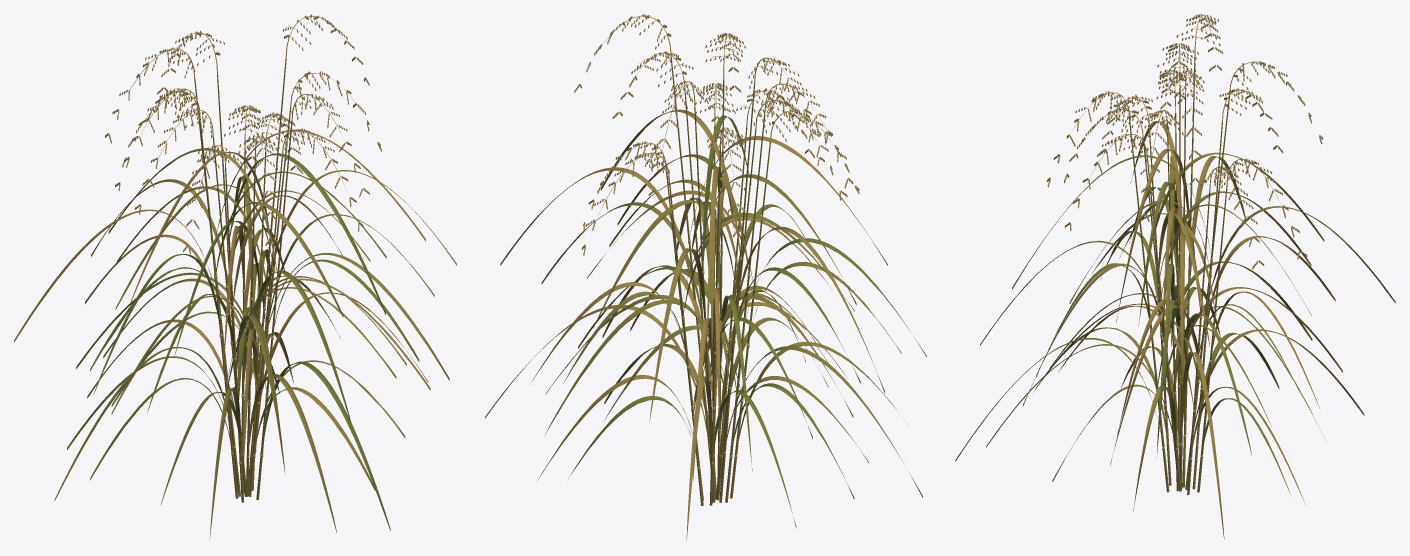
The model's file is rice-5.glb.
3 views of the same model, side by side, from view 1: azimuth 30°, elevation 25°; view 2: azimuth 150°, elevation 25°; view 3: azimuth 270°, elevation 25° (orthographic). The views are drawn at different scales.
Visible parts, largest first — view 1: grass-leaf, stem, grain, rachis; view 2: grass-leaf, stem, grain, rachis; view 3: grass-leaf, stem, grain, rachis.
Part boxes in pixels (left/top/right/bottom): grass-leaf: left=14, top=130, right=456, bottom=539; stem: left=194, top=58, right=292, bottom=502; grain: left=105, top=14, right=381, bottom=253; rachis: left=128, top=15, right=379, bottom=245; grass-leaf: left=485, top=109, right=926, bottom=539; stem: left=666, top=56, right=770, bottom=505; grain: left=574, top=14, right=859, bottom=255; rachis: left=578, top=14, right=856, bottom=245; grass-leaf: left=955, top=121, right=1395, bottom=539; stem: left=1129, top=56, right=1229, bottom=494; grain: left=1046, top=14, right=1322, bottom=269; rachis: left=1049, top=14, right=1309, bottom=261.
Bounding box in the file's own units: 1.06 × 1.14 × 1.01.
4 materials, 3 textured.
